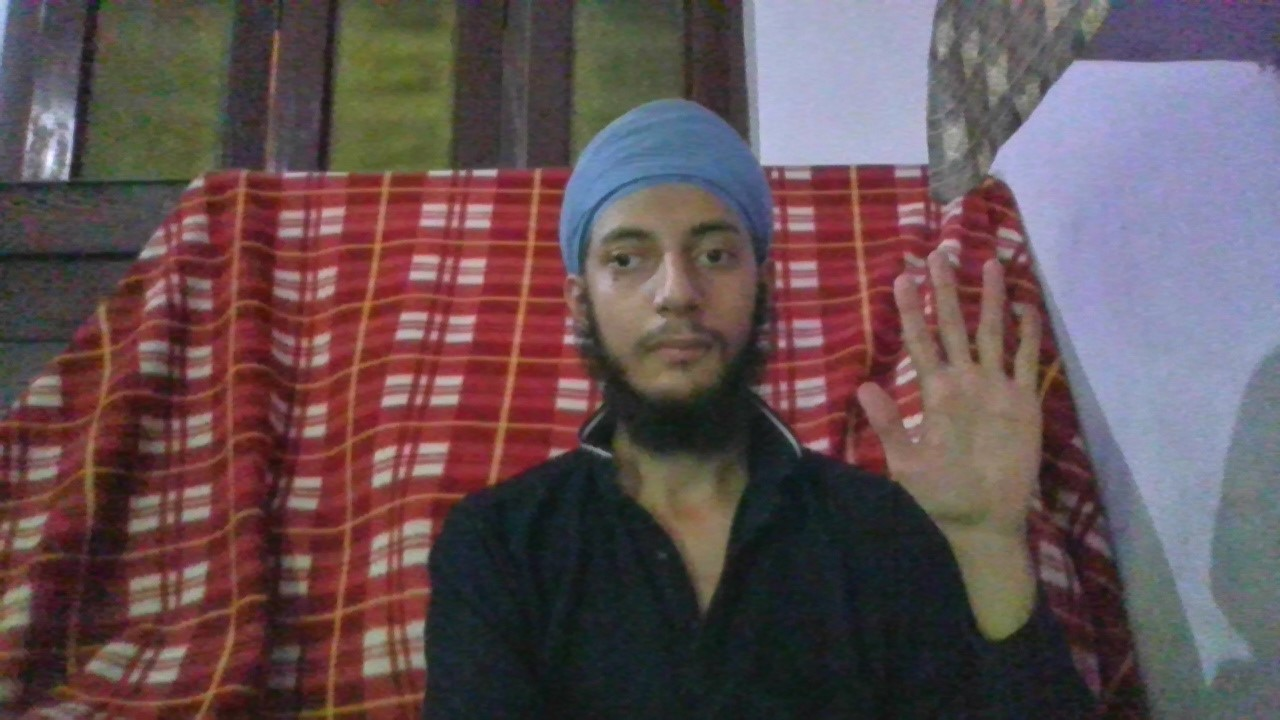Hello: (851, 248, 1046, 535)
